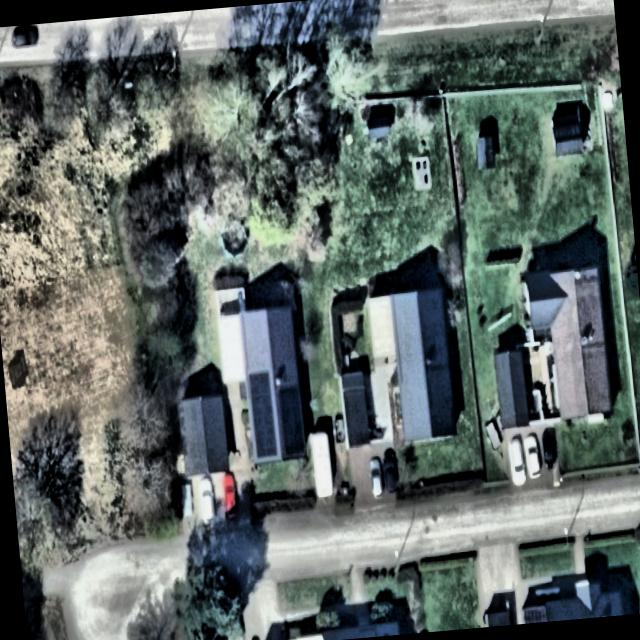roof_pv: (249, 371, 278, 459), (277, 387, 306, 461)
